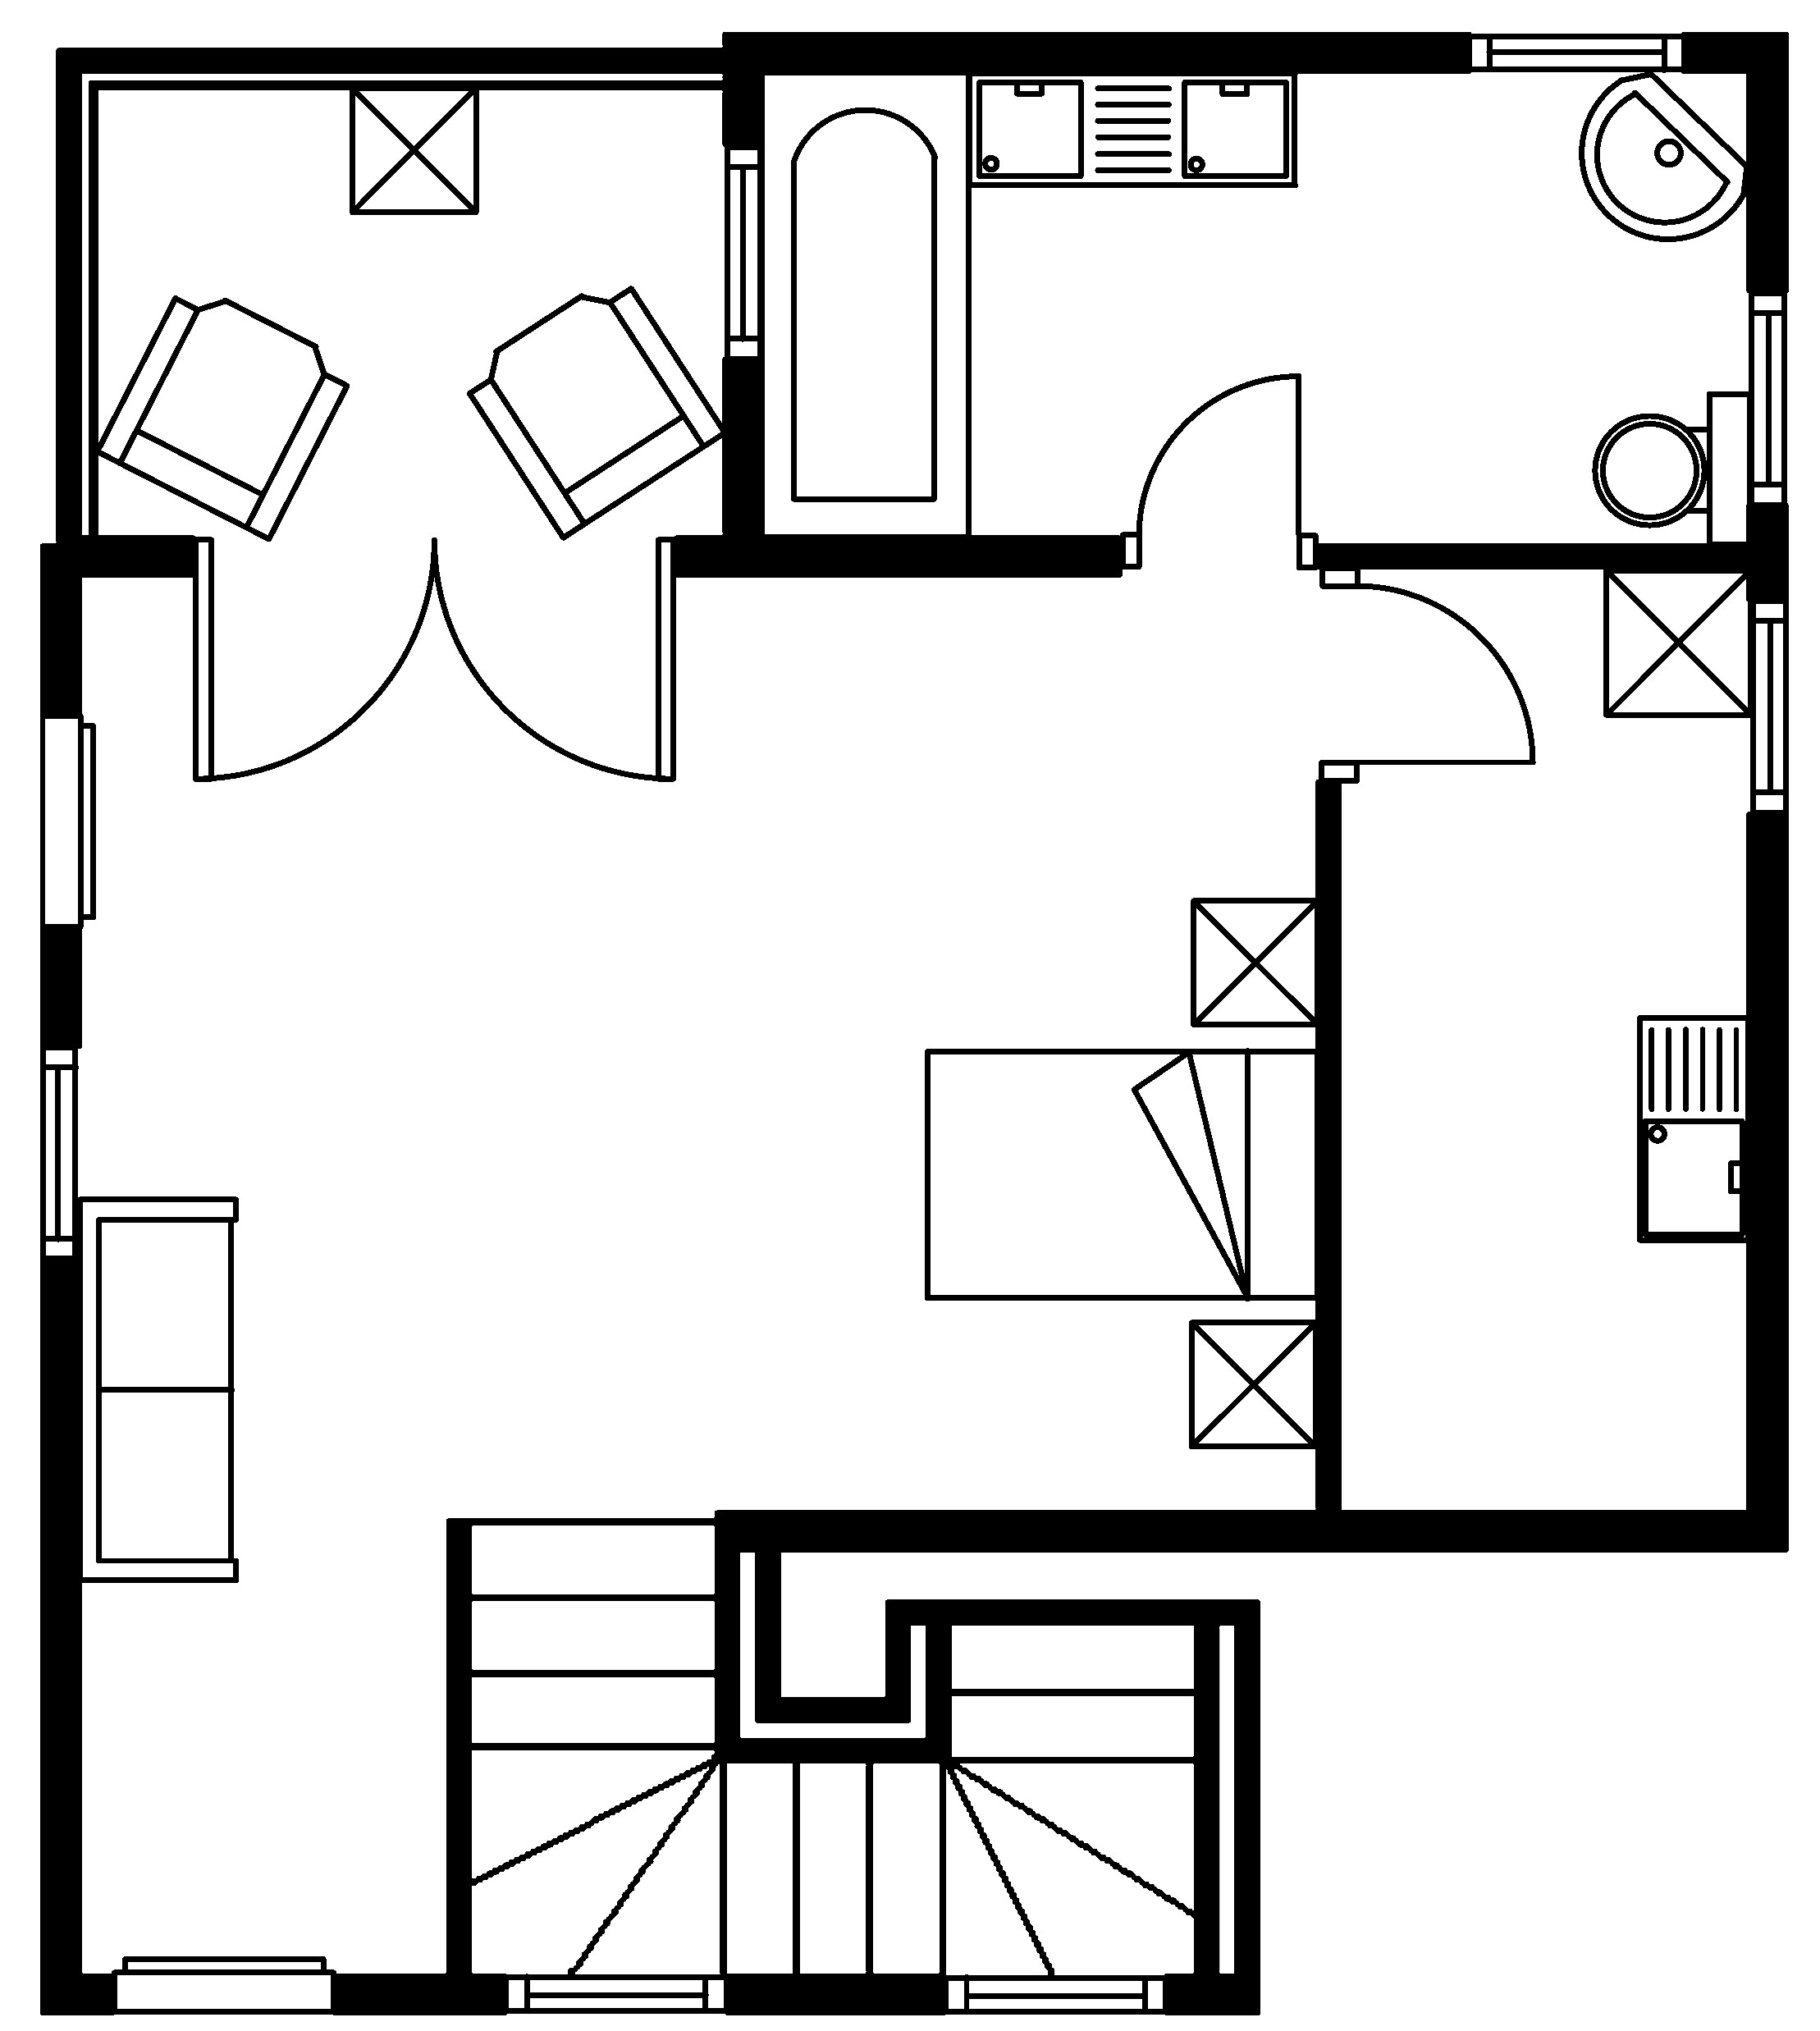armchair: (466, 285, 727, 541), (93, 293, 350, 543)
bed: (922, 1047, 1321, 1302)
coffee_table: (1602, 566, 1753, 719), (1186, 1318, 1319, 1449), (1189, 896, 1321, 1028), (348, 84, 480, 214)
large_sink: (1592, 388, 1753, 548)
large_sofa: (76, 1195, 239, 1583)
sink: (1634, 1014, 1751, 1244)
small_sink: (1578, 70, 1750, 241)
tub: (757, 69, 971, 539)
twin_sink: (964, 69, 1298, 188)
